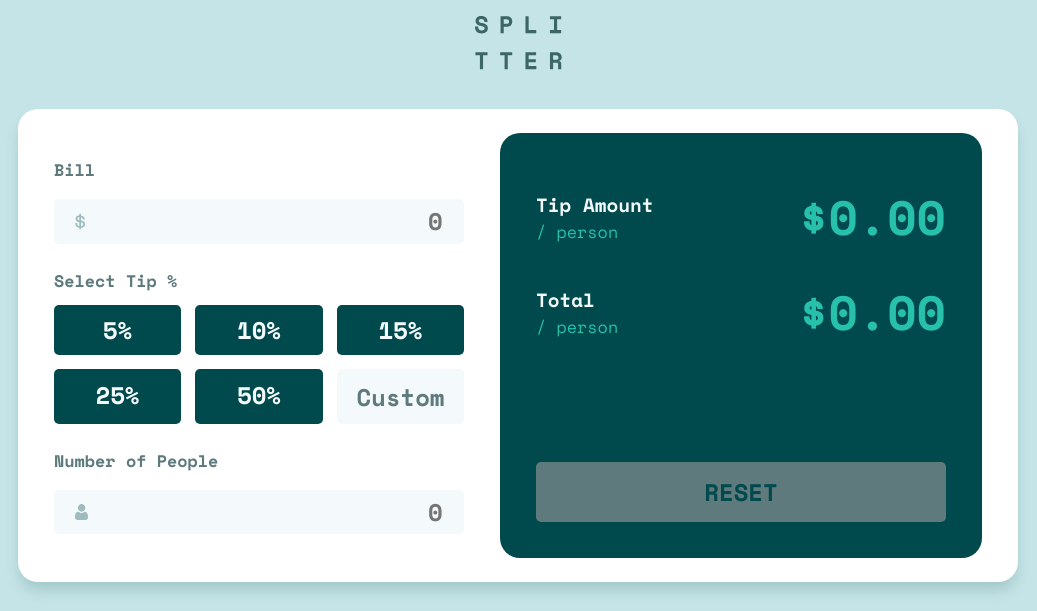
Test: App › should reset the form values when the reset button is clicked
Step 1. Type "100" into the number field labelled "Bill" → (270, 221), box [98,203,443,239]
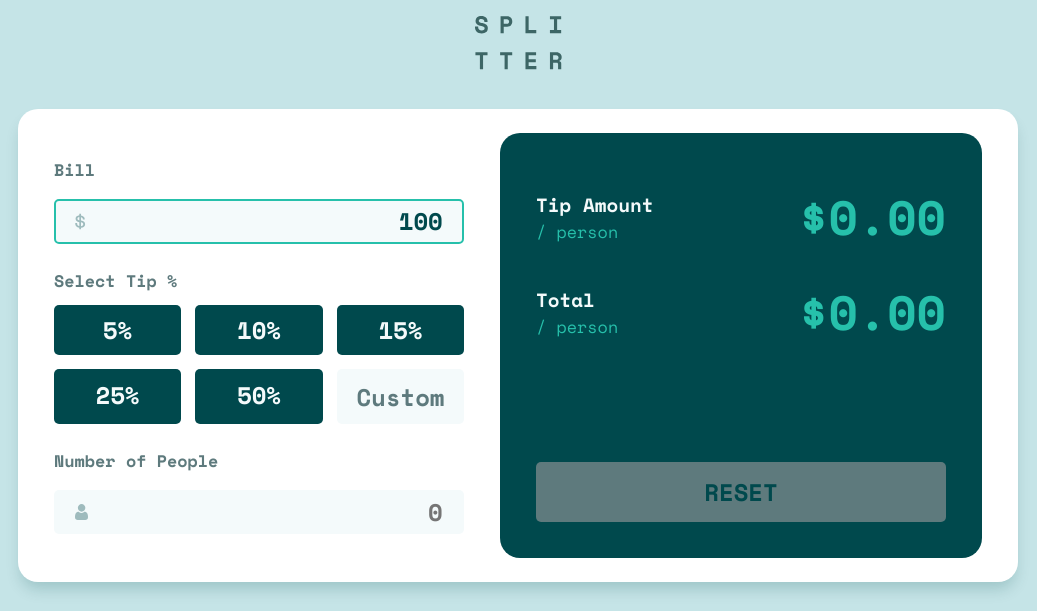
Step 2. Click the button "25%" → (118, 394), box [61,376,174,412]
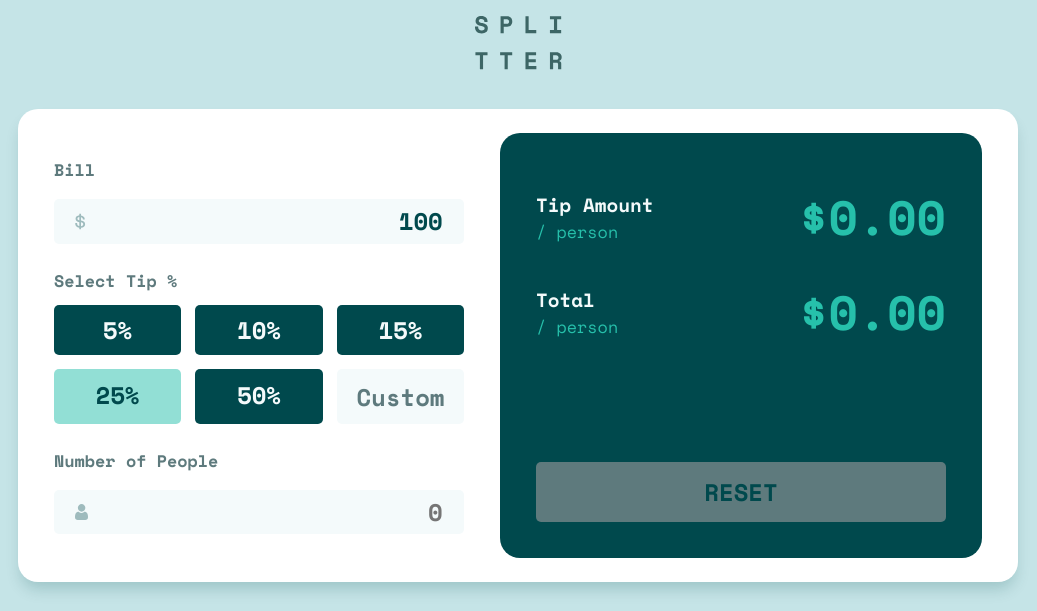
Step 3. Type "2" into the number field labelled "Number of People" → (272, 512), box [100,494,443,530]
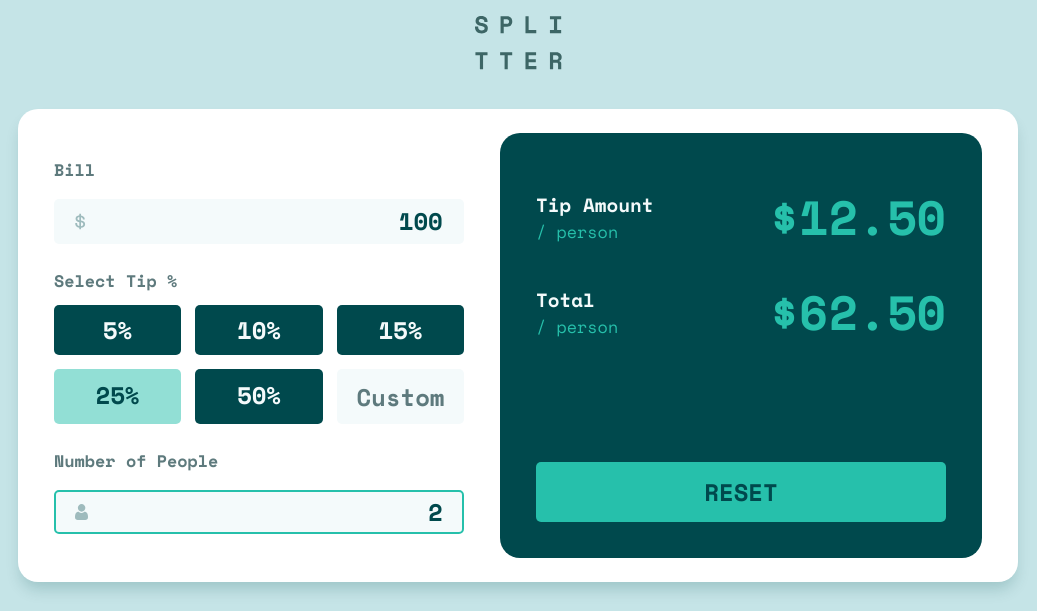
Step 4. Click the button with test id "reset-btn" → (741, 492), box [536,462,946,522]
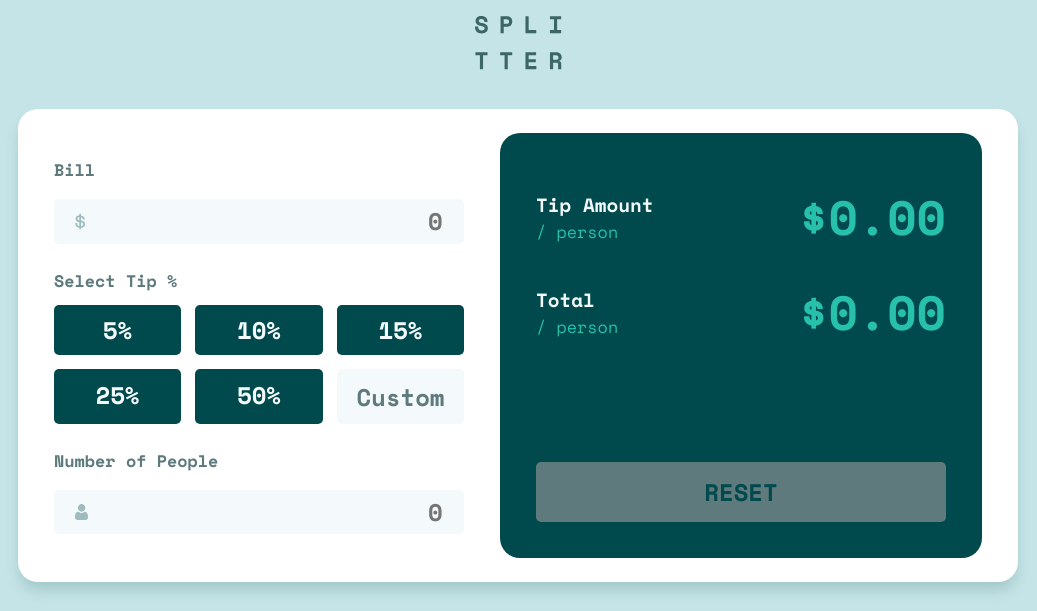
Expected: the number field labelled "Bill" is empty, [98,203,443,239]
Expected: the number field labelled "Number of People" is empty, [100,494,443,530]
Expected: the text with test id "tip-amount" reads "0.00", [828,181,946,252]
